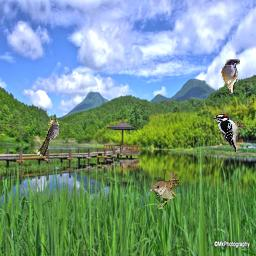Cuckoo: (37, 117, 59, 157)
Sparrow: (149, 169, 180, 209), (221, 59, 240, 94)
Woodpecker: (211, 114, 246, 152)
